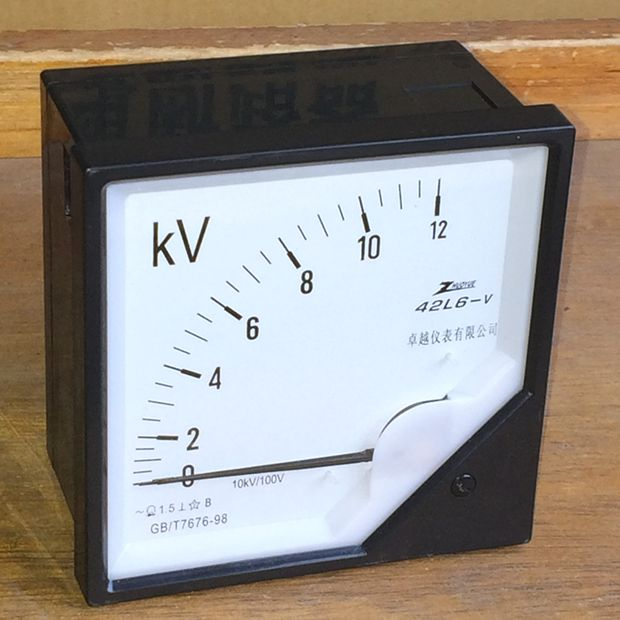pointer: (100, 142, 550, 571)
